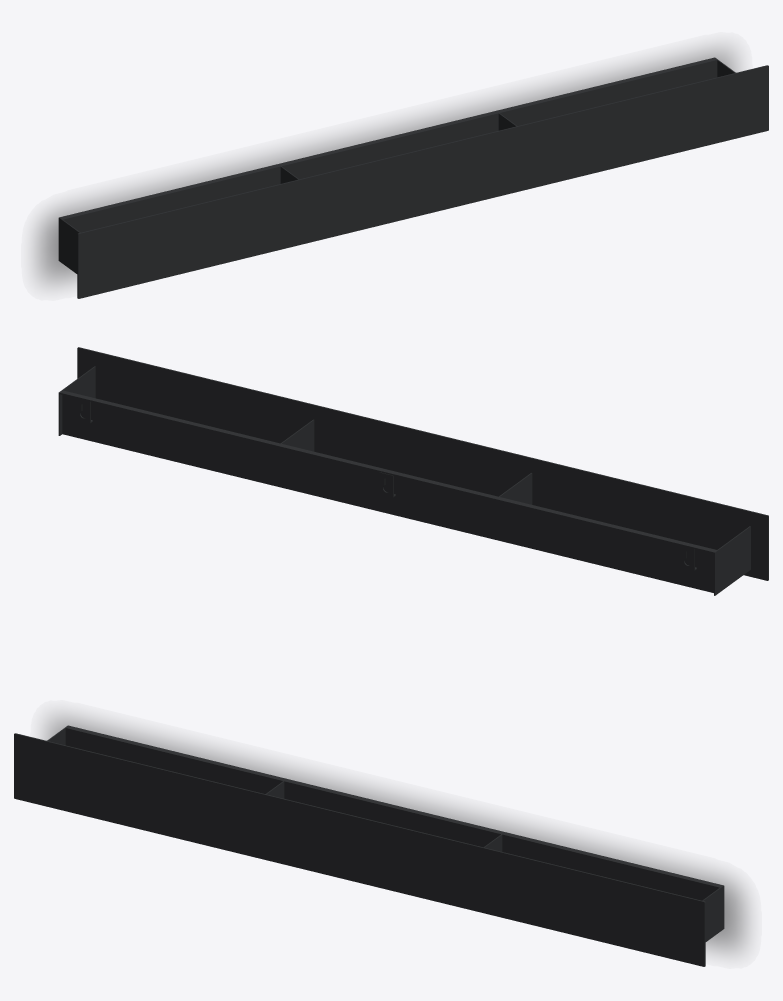
The model's file is skyline-mono.609b7beb8e.ar.glb.
3 renders of one model, top to bottom at view 1: azimuth 30°, elevation 25°; view 2: azimuth 150°, elevation 25°; view 3: azimuth 330°, elevation 25°, orthographic.
Visible parts, largest first — view 1: NAUO1, object 2; view 2: NAUO1; view 3: NAUO1, object 2.
Part boxes in pixels (x1,y1,x2,y2): NAUO1: (58,57,768,298); object 2: (34,47,738,285); NAUO1: (58,347,768,595); NAUO1: (14,725,724,966); object 2: (44,715,748,953).
Size of the model in its own units: 1.08 by 0.17 by 0.0926.
2 materials, 1 textured.
